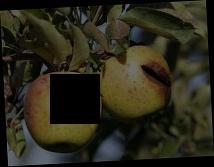rotten apple: (98, 43, 183, 141), (22, 72, 103, 154)
